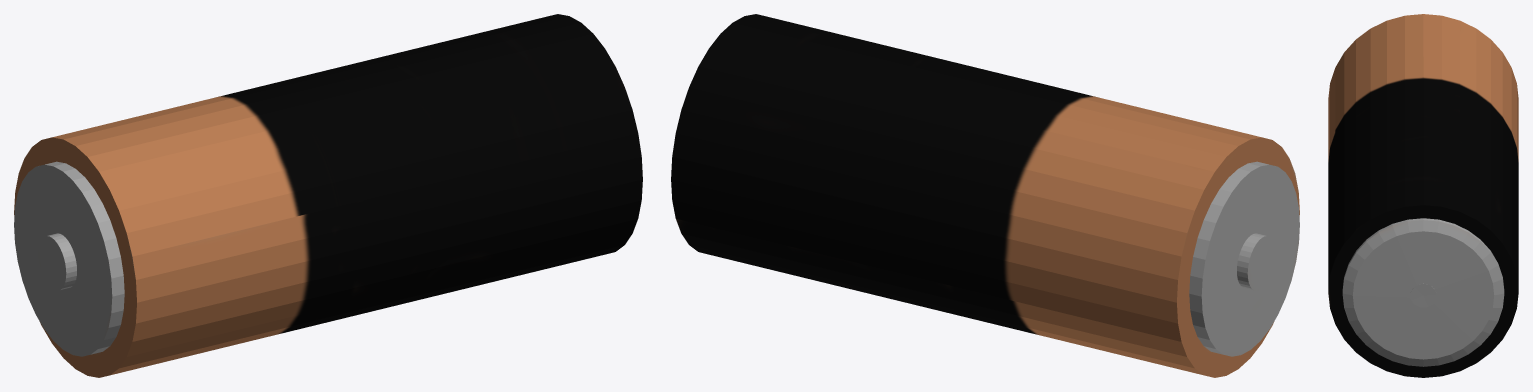
The model's file is dry_cell.glb.
3 views of the same model, side by side, from view 1: azimuth 30°, elevation 25°; view 2: azimuth 150°, elevation 25°; view 3: azimuth 270°, elevation 25° (orthographic). The views are drawn at different scales.
Visible parts, largest first — view 1: DryCell; view 2: DryCell; view 3: DryCell.
Boxes of the visible parts, x1,y1,x2,y2 form: DryCell: (14, 14, 642, 377); DryCell: (671, 14, 1299, 377); DryCell: (1328, 14, 1518, 377).
Size of the model in its own units: 5.07 by 2 by 2.
1 material, 1 textured.
